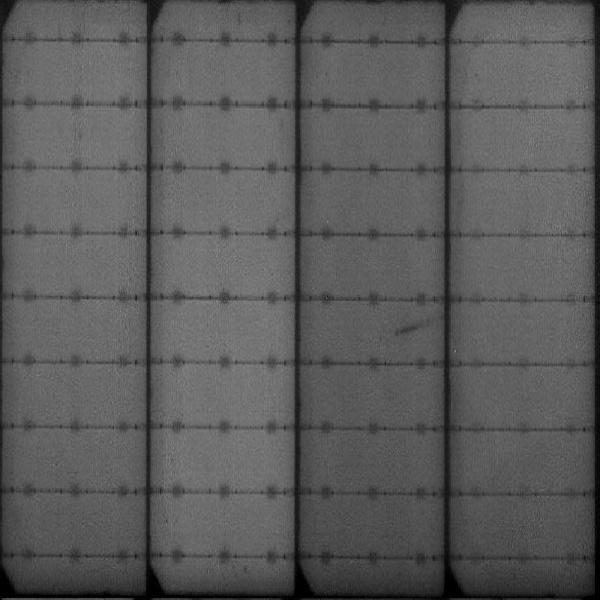scratch: (394, 317, 435, 335)
